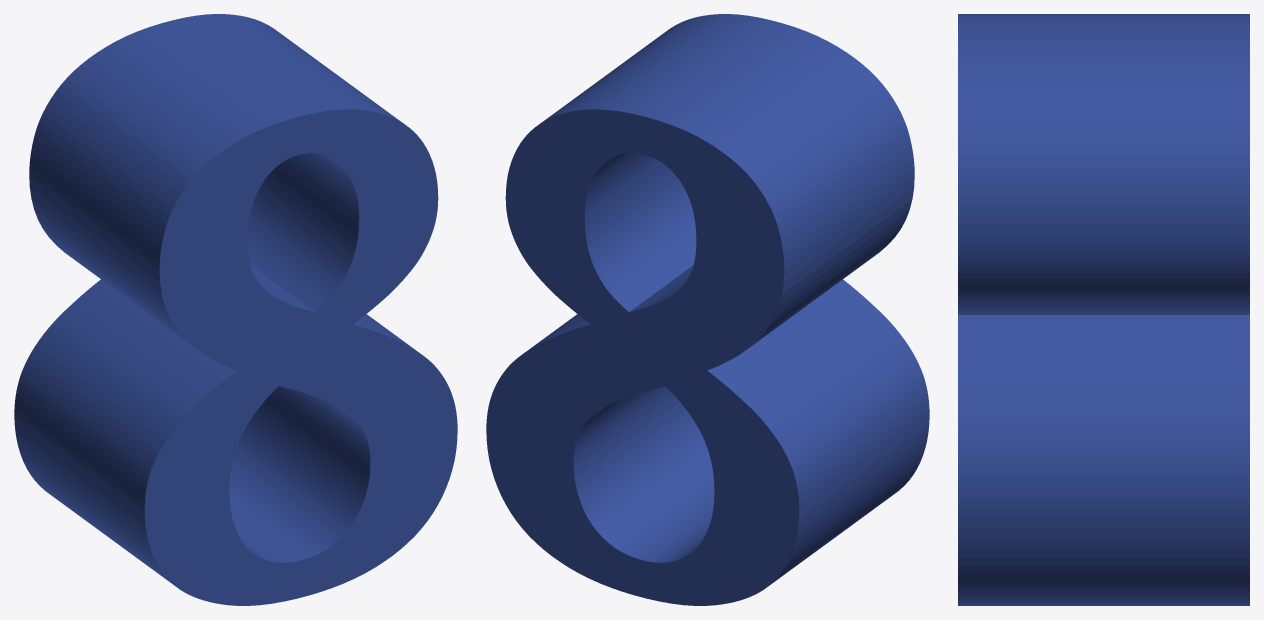
File: tinker.obj
The picture shows the model from 3 angles, left to right: view 1: azimuth 30°, elevation 25°; view 2: azimuth 150°, elevation 25°; view 3: azimuth 270°, elevation 25°; orthographic projection. The views are drawn at different scales.
Visible parts, largest first — view 1: obj_0; view 2: obj_0; view 3: obj_0.
Boxes of the visible parts, x1,y1,x2,y2 form: obj_0: (14,14,457,605); obj_0: (486,14,929,605); obj_0: (958,14,1249,605).
Bounding box in the file's own units: 77.53 × 114 × 55.94.
